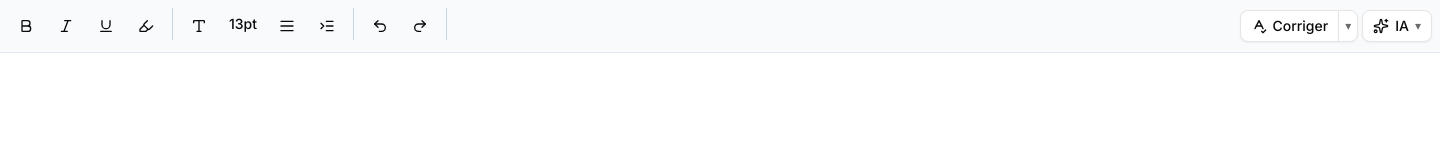
Test case: FormattingToolbar › Chapter correction › offers the punctuation switch beside the correction button
This screenshot has width=1440, height=165.
Click the button named "Options de correction" at (1348, 26), box [1338,10,1358,42]
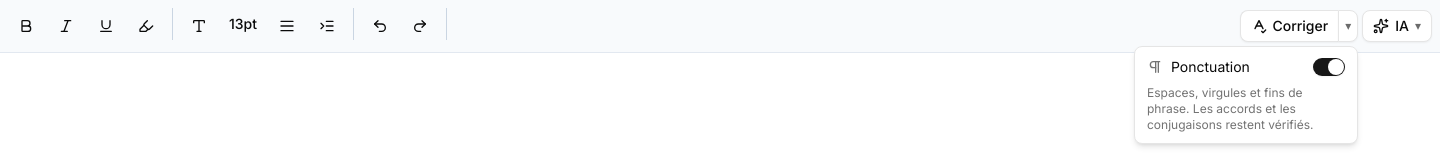
Check: the switch named "Ponctuation" is checked, box [1313,58,1345,76]
